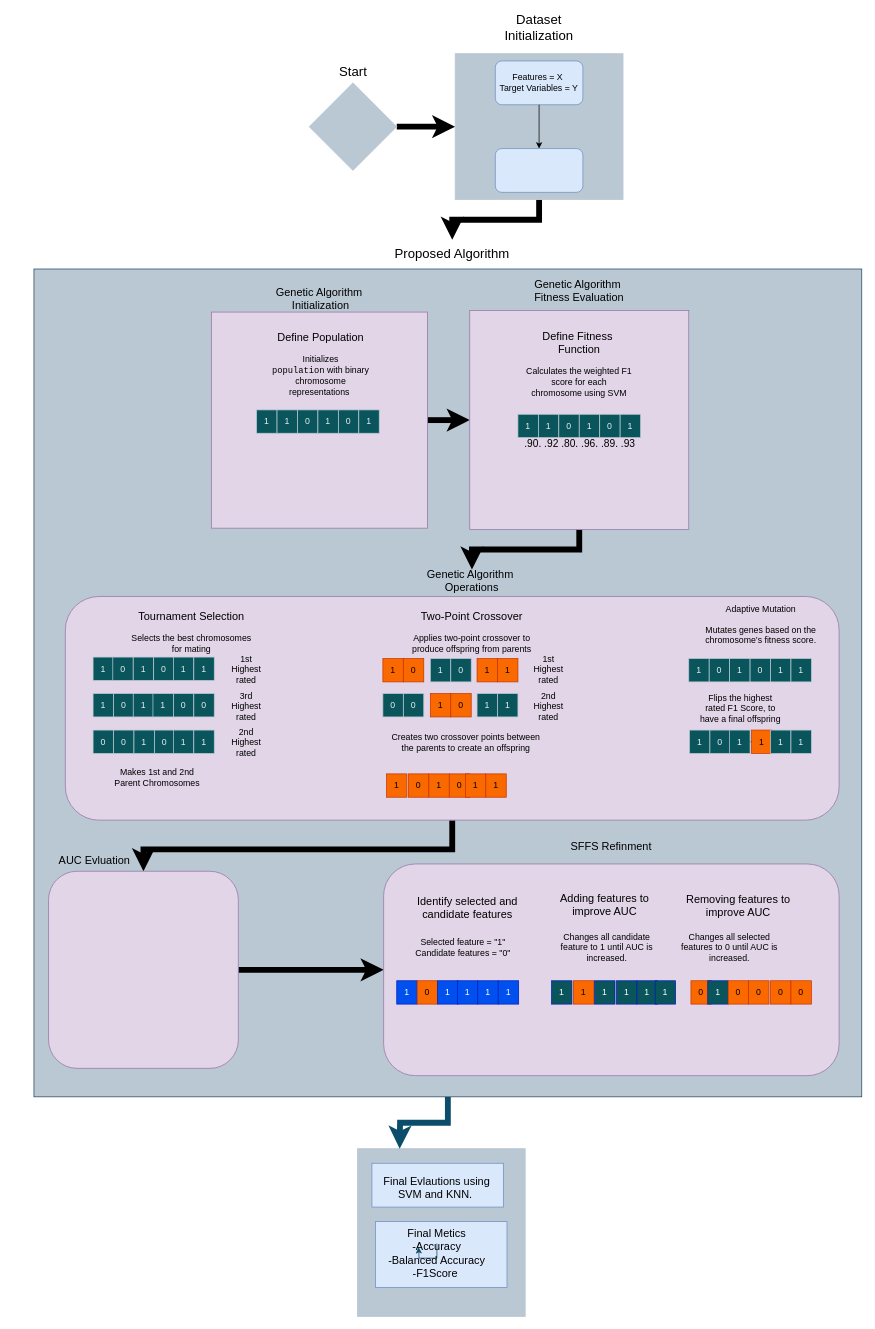
Image size: 875x1329. Some labels were removed from this diagram. The shapes that lost their labels are listed below. From the top down, each one's centre as x and y in pixels, then its label:
At point (352, 126): "Load Dataset".
At point (539, 170): "Normalization (StandardScalar)".
At point (143, 969): "AUC Evaluation Uses StratifiedKFold with AUC scoring to assess the offspring".
